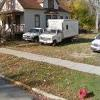Tree: (74, 1, 100, 43)
